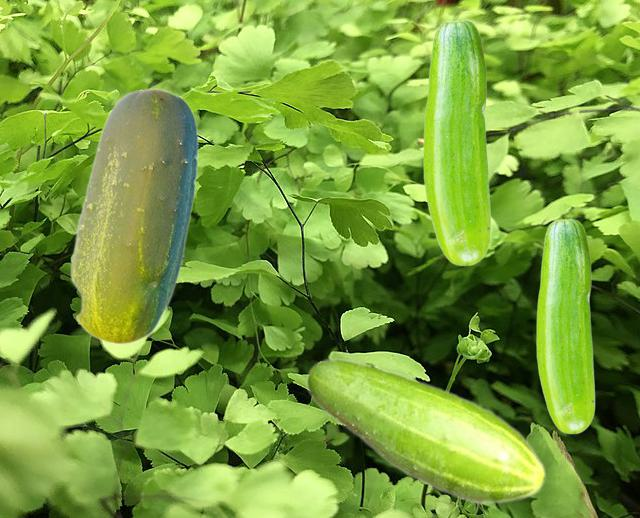cucumber: (305, 357, 546, 505), (69, 87, 197, 344), (423, 19, 490, 265), (536, 218, 594, 433)
